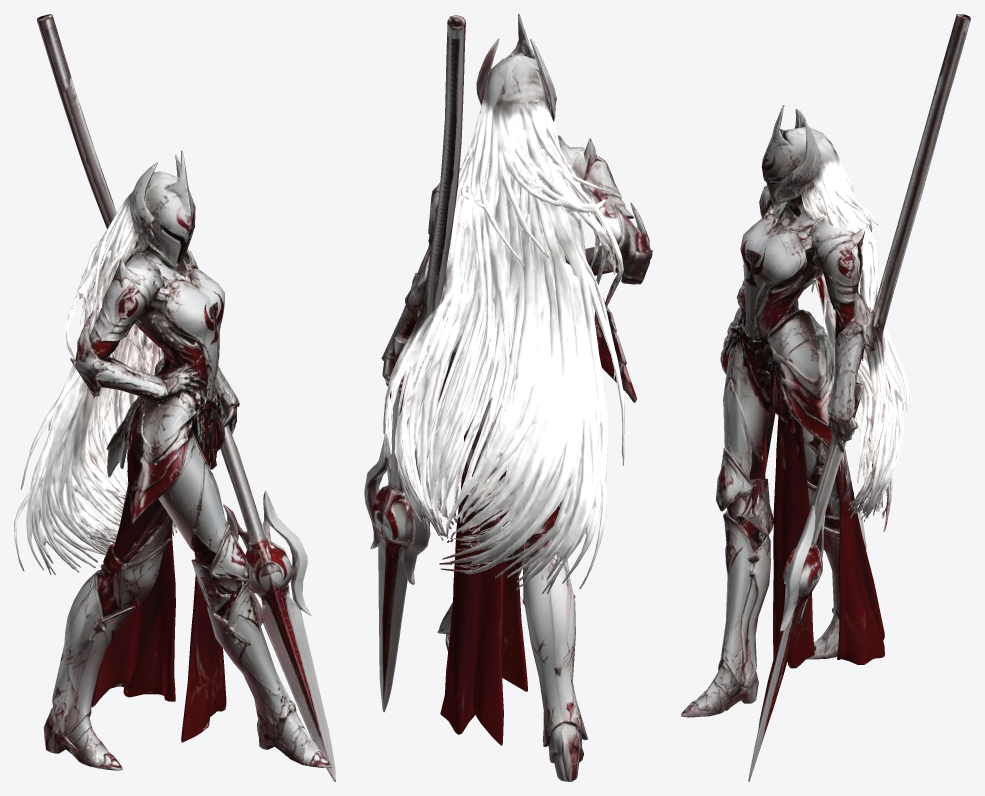
Rendered from astravyne__the_ivory_bloodlancer.glb.
3 renders of one model, left to right at view 1: azimuth 30°, elevation 25°; view 2: azimuth 150°, elevation 25°; view 3: azimuth 270°, elevation 25°, orthographic. The views are drawn at different scales.
Visible parts, largest first — view 1: astravyne__the_ivory_bloodlancer; view 2: astravyne__the_ivory_bloodlancer; view 3: astravyne__the_ivory_bloodlancer.
Boxes of the visible parts, <box> form: astravyne__the_ivory_bloodlancer: <box>14,14,335,781</box>; astravyne__the_ivory_bloodlancer: <box>364,14,652,781</box>; astravyne__the_ivory_bloodlancer: <box>681,14,970,781</box>.
Size of the model in its own units: 0.905 by 2.4 by 0.9181.
1 material, 1 textured.
